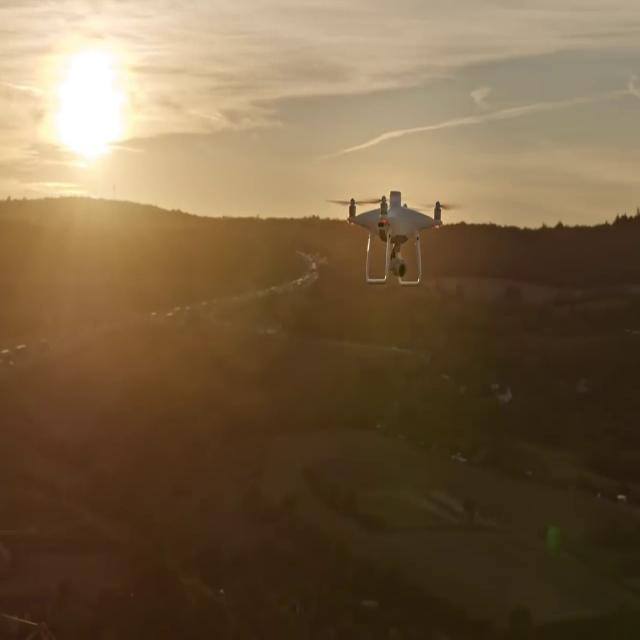drone: (324, 188, 464, 288)
